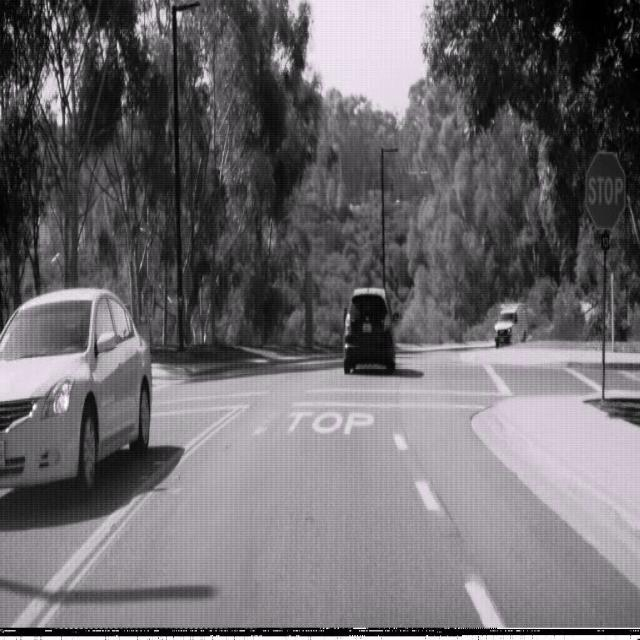stop_sign: (584, 150, 626, 230)
